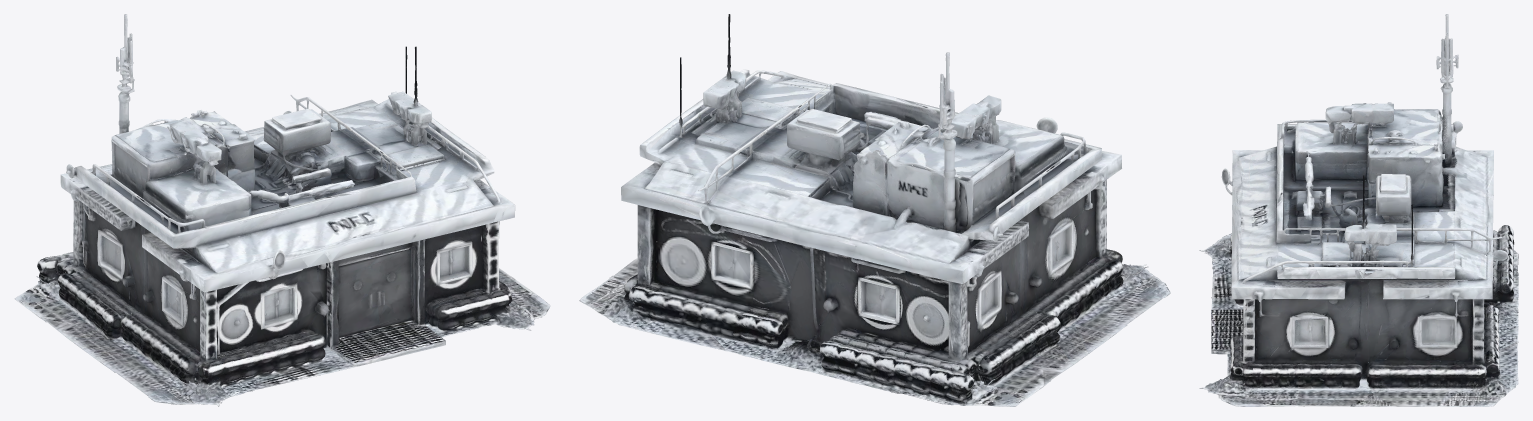
File: hq-winter.glb
3 renders of one model, left to right at view 1: azimuth 30°, elevation 25°; view 2: azimuth 150°, elevation 25°; view 3: azimuth 270°, elevation 25°, orthographic. The views are drawn at different scales.
Bounding box in the file's own units: 2 × 1.36 × 1.54.
Materials: 1 (1 with a texture image).
